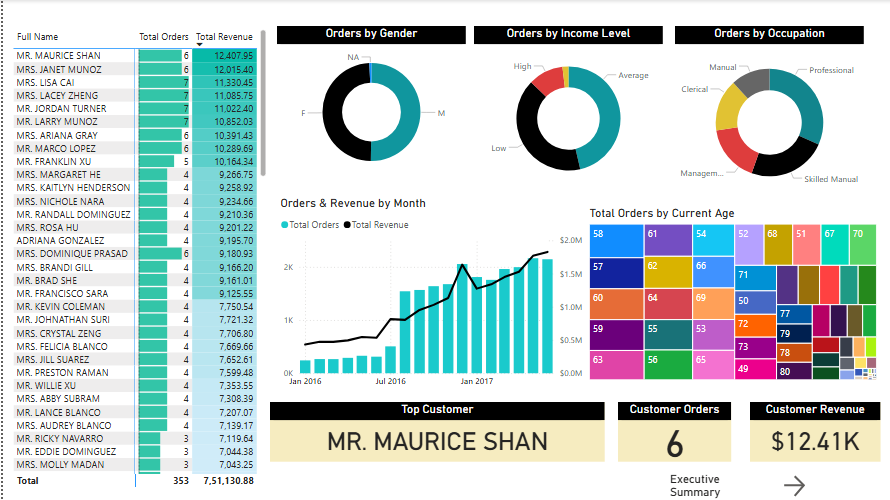

This screenshot's page, from the dashboard's own definition file:
{"tool":"powerbi","page":{"name":"Customer Detail","canvas":[1280,720],"ordinal":2},"visuals":[{"type":"pivotTable","fields":{"Rows":["AdventureWorks_Customers - 1721571213656.Full Name"],"Values":["All Sales.Total Orders","All Sales.Total Revenue"]},"box":[10.8,36.9,373.8,669.2],"z":0},{"type":"donutChart","title":"Orders by Gender","fields":{"Category":["AdventureWorks_Customers - 1721571213656.Gender"],"Y":["All Sales.Total Orders"]},"box":[394.8,37,272.1,226.8],"z":1},{"type":"donutChart","title":"Orders by Income Level","fields":{"Category":["AdventureWorks_Customers - 1721571213656.Income Level"],"Y":["All Sales.Total Orders"]},"box":[678.6,37,272.1,245.2],"z":2},{"type":"donutChart","title":"Orders by Occupation","fields":{"Category":["AdventureWorks_Customers - 1721571213656.Occupation"],"Y":["All Sales.Total Orders"]},"box":[967.6,37,272.1,257],"z":3},{"type":"lineClusteredColumnComboChart","title":"Orders & Revenue by Month","fields":{"Y":["All Sales.Total Orders"],"Y2":["All Sales.Total Revenue"],"Category":["AdventureWorks_Calendar - 1721571213649.Start of Month"]},"box":[394.8,282.2,445.1,285.6],"z":4},{"type":"treemap","fields":{"Group":["AdventureWorks_Customers - 1721571213656.Current Age"],"Values":["All Sales.Total Orders"]},"box":[839.9,297.3,423.3,255.3],"z":5},{"type":"card","title":"Top Customer","fields":{"Values":["Min(AdventureWorks_Customers - 1721571213656.Full Name)"]},"box":[384.7,579.5,482.1,85.7],"z":6},{"type":"card","title":"Customer Orders","fields":{"Values":["All Sales.Total Orders"]},"box":[885.2,579.5,162.9,85.7],"z":7},{"type":"card","title":"Customer Revenue","fields":{"Values":["All Sales.Total Revenue"]},"box":[1075.1,579.5,188.1,85.7],"z":8},{"type":"actionButton","box":[1118.7,680.3,100.8,40.3],"z":10},{"type":"actionButton","title":"Executive Summary","box":[960.8,680.3,157.9,40.3],"z":11}]}

Visuals, with their boxes in screenshot pixels (x1, y1, x2, y2), scaled from the page's 1280x720 canvas onto the 890x500 screenshot:
pivotTable - AdventureWorks_Customers - 1721571213656.Full Name x All Sales.Total Orders: box=[8, 26, 267, 490]
"Orders by Gender" donutChart: box=[275, 26, 464, 183]
"Orders by Income Level" donutChart: box=[472, 26, 661, 196]
"Orders by Occupation" donutChart: box=[673, 26, 862, 204]
"Orders & Revenue by Month" lineClusteredColumnComboChart: box=[275, 196, 584, 394]
treemap - AdventureWorks_Customers - 1721571213656.Current Age x All Sales.Total Orders: box=[584, 206, 878, 384]
"Top Customer" card: box=[267, 402, 603, 462]
"Customer Orders" card: box=[615, 402, 729, 462]
"Customer Revenue" card: box=[748, 402, 878, 462]
actionButton: box=[778, 472, 848, 499]
"Executive Summary" actionButton: box=[668, 472, 778, 499]
